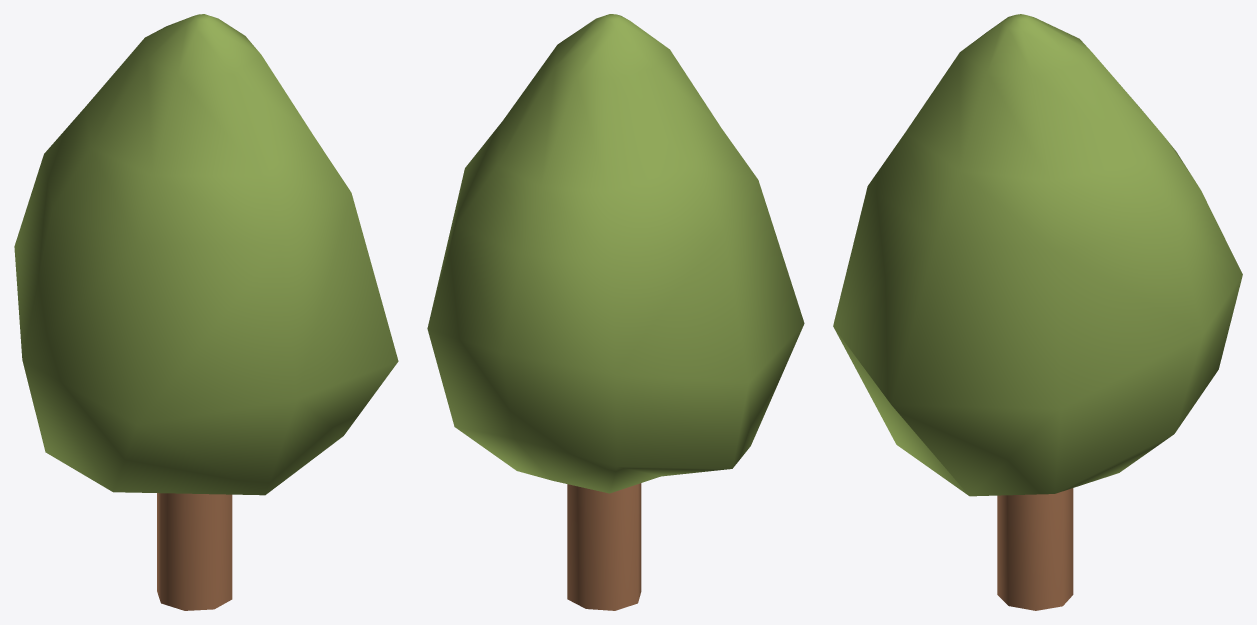
File: Pine_S.fbx
3 renders of one model, left to right at view 1: azimuth 30°, elevation 25°; view 2: azimuth 150°, elevation 25°; view 3: azimuth 270°, elevation 25°, orthographic.
Parts seen in each view (by area): view 1: Tree_S; view 2: Tree_S; view 3: Tree_S.
Part boxes in pixels (x1,y1,x2,y2): Tree_S: (14,14,398,610); Tree_S: (427,14,804,610); Tree_S: (833,14,1242,610).
Size of the model in its own units: 15.47 by 26.98 by 17.36.
